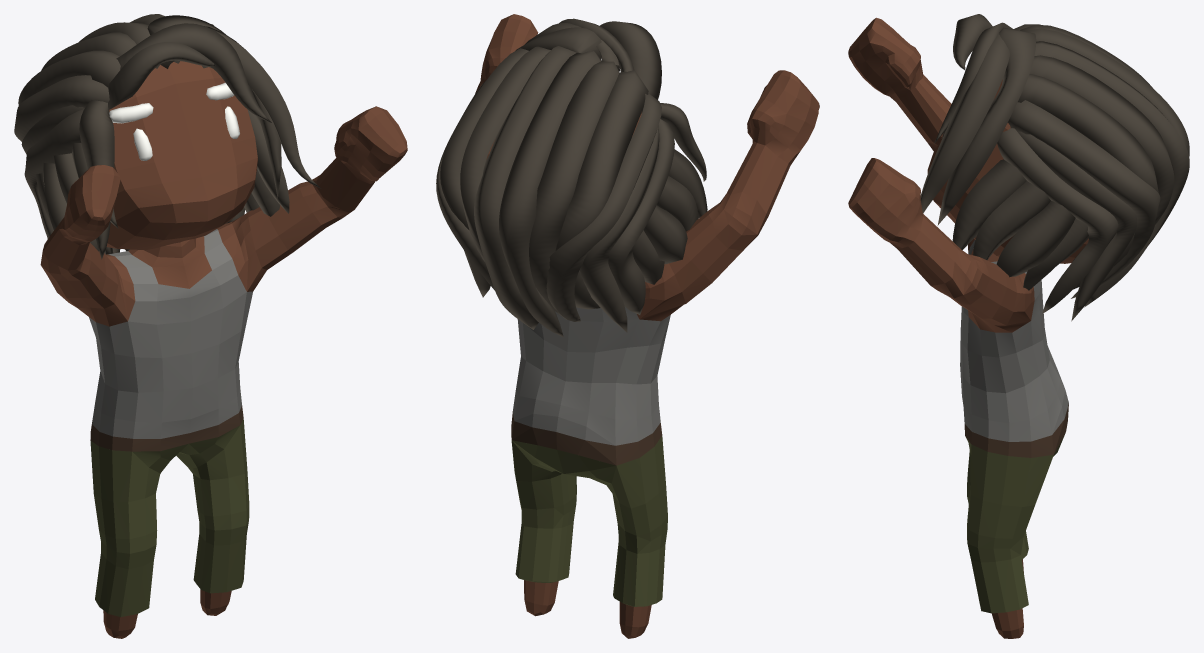
Rendered from joie-femme.glb.
3 views of the same model, side by side, from view 1: azimuth 30°, elevation 25°; view 2: azimuth 150°, elevation 25°; view 3: azimuth 270°, elevation 25° (orthographic). The views are drawn at different scales.
Visible parts, largest first — view 1: Cube004, Cube004_5, Cube004_1, Cube004_2, Cube004_3, Cube004_4; view 2: Cube004_5, Cube004, Cube004_1, Cube004_2, Cube004_3; view 3: Cube004_5, Cube004, Cube004_1, Cube004_2, Cube004_3.
Part boxes in pixels (left/top/right/bottom): Cube004: left=40, top=61, right=407, bottom=638; Cube004_5: left=14, top=14, right=321, bottom=259; Cube004_1: left=89, top=229, right=252, bottom=438; Cube004_2: left=90, top=419, right=249, bottom=616; Cube004_3: left=90, top=405, right=243, bottom=451; Cube004_4: left=109, top=82, right=239, bottom=160; Cube004_5: left=436, top=18, right=707, bottom=337; Cube004: left=475, top=14, right=819, bottom=638; Cube004_1: left=513, top=307, right=670, bottom=445; Cube004_2: left=511, top=436, right=667, bottom=606; Cube004_3: left=511, top=411, right=662, bottom=465; Cube004_5: left=920, top=14, right=1189, bottom=321; Cube004: left=848, top=17, right=1088, bottom=638; Cube004_1: left=960, top=240, right=1068, bottom=441; Cube004_2: left=965, top=433, right=1065, bottom=613; Cube004_3: left=964, top=404, right=1068, bottom=457.
Bounding box in the file's own units: 0.9606 × 1.69 × 0.8841.
